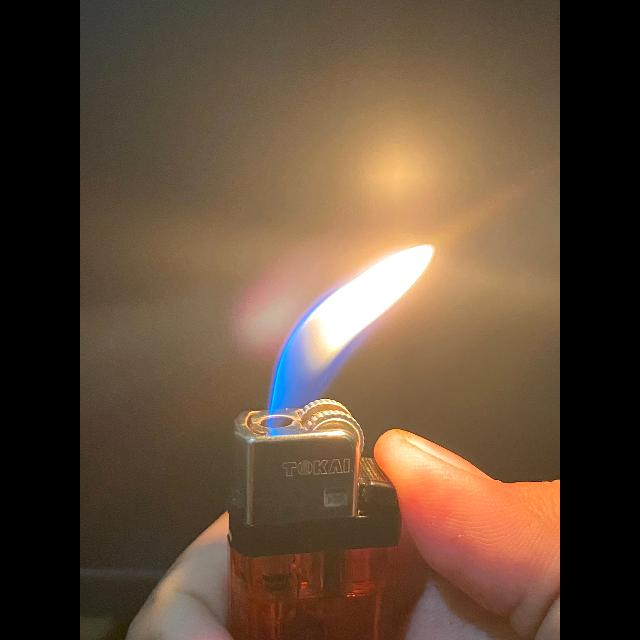fire: (230, 245, 432, 558)
